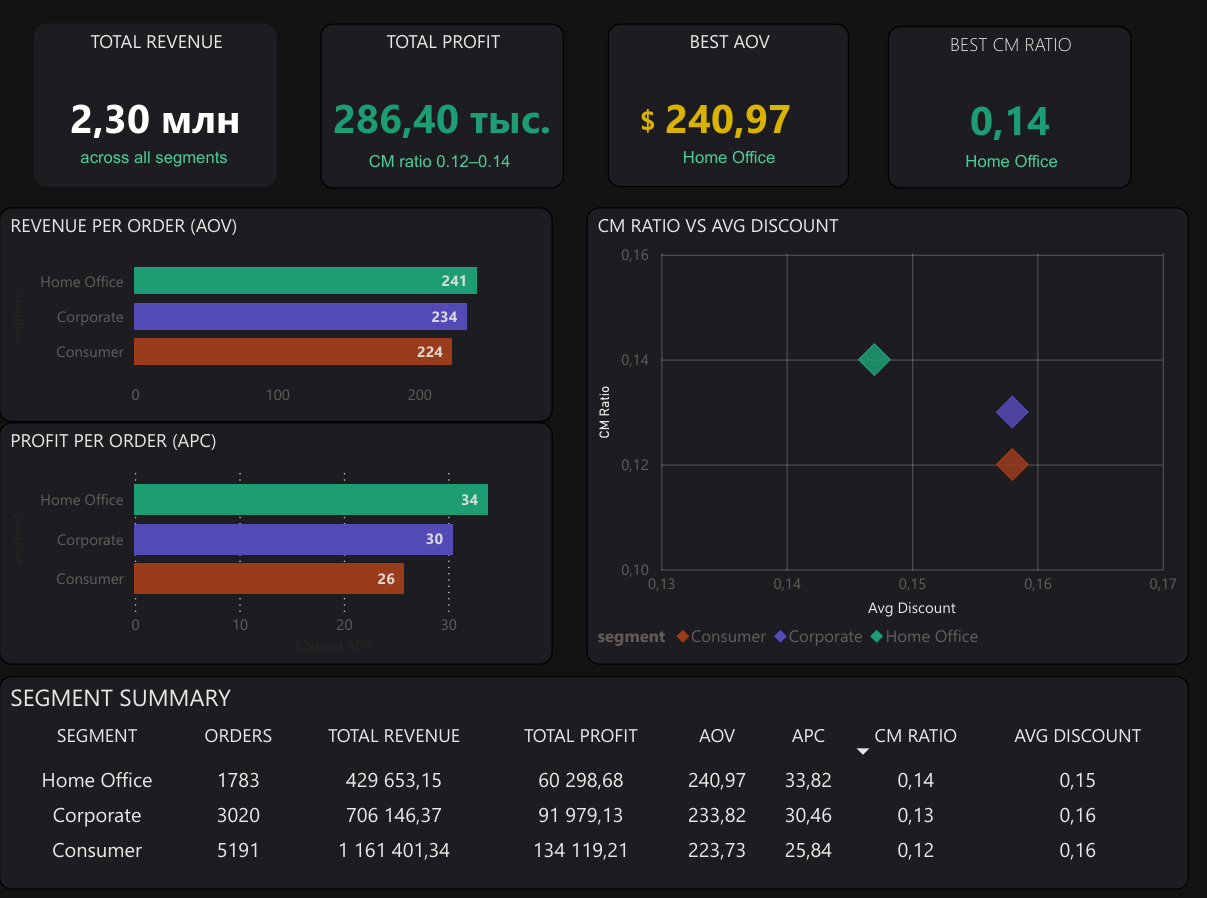

What the dashboard file says about the page in this screenshot:
{"tool":"powerbi","page":{"name":"Страница 1","canvas":[1280,720],"ordinal":0},"visuals":[{"type":"card","title":"TOTAL REVENUE","fields":{"Values":["Sum(unit-eco.total_sales)"]},"box":[28,18.2,193.5,130.4],"z":0},{"type":"card","title":"TOTAL PROFIT","fields":{"Values":["Sum(unit-eco.total_profit)"]},"box":[256.6,18.2,194.9,131.8],"z":1000},{"type":"card","title":"BEST AOV","fields":{"Values":["Max(unit-eco.AOV)"]},"box":[486.6,18.2,193.5,130.4],"z":2000},{"type":"card","title":"BEST CM RATIO","fields":{"Values":["Max(unit-eco.CM_ratio)"]},"box":[711,19.6,194.9,130.4],"z":3000},{"type":"clusteredBarChart","title":"REVENUE PER ORDER (AOV)","fields":{"Category":["unit-eco.segment"],"Y":["Sum(unit-eco.AOV)"]},"box":[0,165.5,443.1,171.1],"z":4000},{"type":"clusteredBarChart","title":"PROFIT PER ORDER (APC)","fields":{"Category":["unit-eco.segment"],"Y":["Sum(unit-eco.APC)"]},"box":[0,336.5,443.1,194.9],"z":5000},{"type":"scatterChart","title":"CM RATIO VS AVG DISCOUNT","fields":{"Y":["Avg(unit-eco.CM_ratio)"],"X":["Avg(unit-eco.avg_discount)"],"Series":["unit-eco.segment"]},"box":[469.8,165.5,482.4,366],"z":6000},{"type":"tableEx","title":"SEGMENT SUMMARY ","fields":{"Values":["unit-eco.segment","Sum(unit-eco.qty_orders)","Sum(unit-eco.total_sales)","Sum(unit-eco.total_profit)","Sum(unit-eco.AOV)","Sum(unit-eco.APC)","Sum(unit-eco.CM_ratio)","Sum(unit-eco.avg_discount)"]},"box":[0,540,952,171],"z":7000},{"type":"textbox","box":[57.5,110.8,133.2,35.1],"z":13000},{"type":"textbox","box":[290.3,113.6,124.8,33.7],"z":14000},{"type":"textbox","box":[755.8,113.6,108,30.9],"z":15000},{"type":"textbox","box":[530.1,110.8,108,35.1],"z":16000},{"type":"textbox","box":[499,75,31,46],"z":16001}]}

Visuals, with their boxes on the page's 1280x720 design canvas (x1, y1, x2, y2). These are canvas units, not pixel positions in the 1207x898 screenshot, which may show the page scaled, cropped or inside an application window:
"TOTAL REVENUE" card: locate(28, 18, 222, 149)
"TOTAL PROFIT" card: locate(257, 18, 452, 150)
"BEST AOV" card: locate(487, 18, 680, 149)
"BEST CM RATIO" card: locate(711, 20, 906, 150)
"REVENUE PER ORDER (AOV)" clusteredBarChart: locate(0, 166, 443, 337)
"PROFIT PER ORDER (APC)" clusteredBarChart: locate(0, 336, 443, 531)
"CM RATIO VS AVG DISCOUNT" scatterChart: locate(470, 166, 952, 532)
"SEGMENT SUMMARY " tableEx: locate(0, 540, 952, 711)
textbox: locate(58, 111, 191, 146)
textbox: locate(290, 114, 415, 147)
textbox: locate(756, 114, 864, 144)
textbox: locate(530, 111, 638, 146)
textbox: locate(499, 75, 530, 121)
